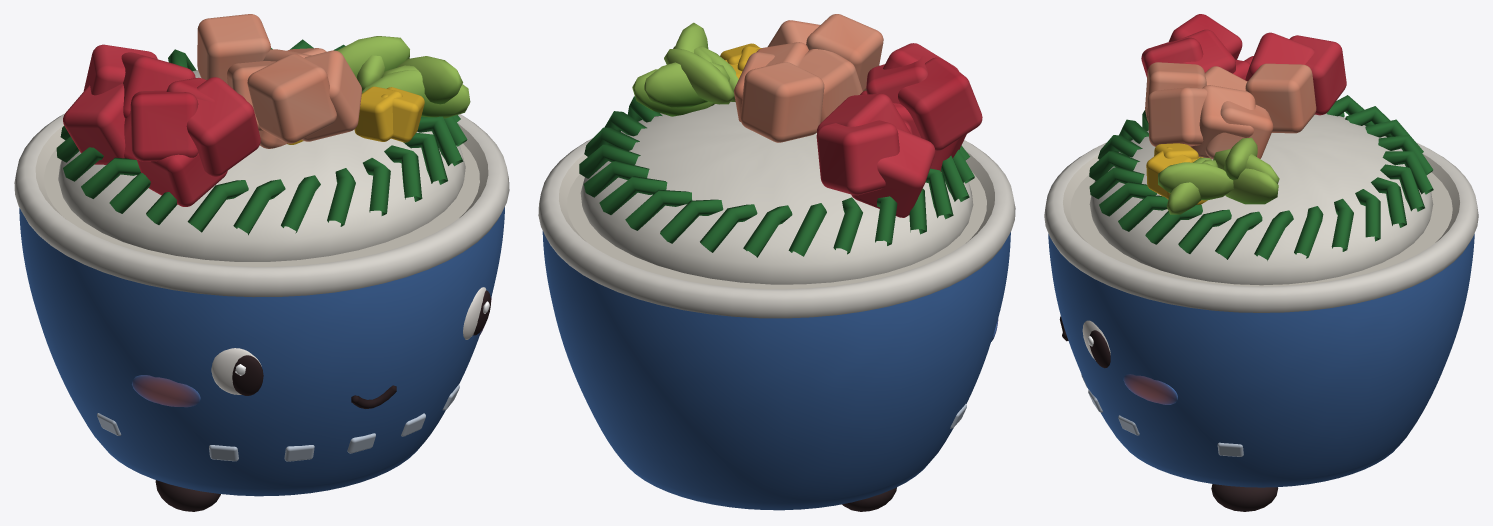
The model's file is folk_kai.glb.
The picture shows the model from 3 angles, left to right: view 1: azimuth 30°, elevation 25°; view 2: azimuth 150°, elevation 25°; view 3: azimuth 270°, elevation 25°; orthographic projection. The views are drawn at different scales.
Visible parts, largest first — view 1: kai_body, kai_eye_l, kai_foot_l, kai_eye_r; view 2: kai_body, kai_foot_l; view 3: kai_body, kai_foot_r, kai_eye_r.
Boxes of the visible parts, bbox=[...] form: kai_body: bbox=[14, 14, 509, 496]; kai_eye_l: bbox=[211, 348, 263, 395]; kai_foot_l: bbox=[155, 480, 220, 511]; kai_eye_r: bbox=[463, 287, 490, 339]; kai_body: bbox=[538, 14, 1015, 510]; kai_foot_l: bbox=[842, 487, 896, 511]; kai_body: bbox=[1044, 14, 1478, 487]; kai_foot_r: bbox=[1211, 484, 1278, 511]; kai_eye_r: bbox=[1082, 320, 1110, 368].
Size of the model in its own units: 0.9688 by 0.9845 by 0.9688.
